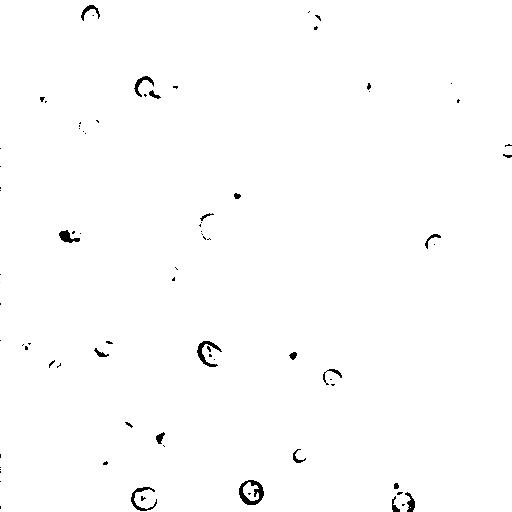micro-algae: (32, 90, 144, 197), (57, 404, 128, 475), (102, 389, 172, 460), (227, 413, 292, 481), (137, 38, 187, 99), (46, 261, 95, 306), (64, 94, 109, 140), (474, 447, 511, 494), (43, 217, 87, 248), (295, 5, 330, 41), (171, 424, 206, 459), (490, 51, 512, 105), (161, 62, 193, 99), (484, 36, 512, 78), (144, 424, 179, 457), (33, 81, 65, 115), (196, 211, 229, 243), (355, 72, 389, 103), (398, 1, 455, 19), (436, 79, 467, 112), (60, 247, 91, 280), (286, 397, 323, 424), (236, 477, 266, 507), (196, 340, 227, 369), (36, 8, 65, 38), (1, 465, 19, 512), (278, 342, 308, 369), (216, 81, 243, 110), (77, 112, 104, 140), (131, 486, 159, 512), (14, 334, 38, 361), (158, 263, 183, 288), (90, 335, 116, 359), (389, 490, 417, 511), (95, 452, 119, 476), (387, 473, 410, 498), (262, 94, 285, 118), (423, 233, 448, 255), (13, 398, 38, 420), (134, 75, 155, 99), (47, 359, 67, 384), (322, 367, 345, 387), (81, 5, 101, 27), (113, 422, 133, 440), (291, 447, 309, 466), (229, 189, 244, 202), (501, 142, 512, 159)
